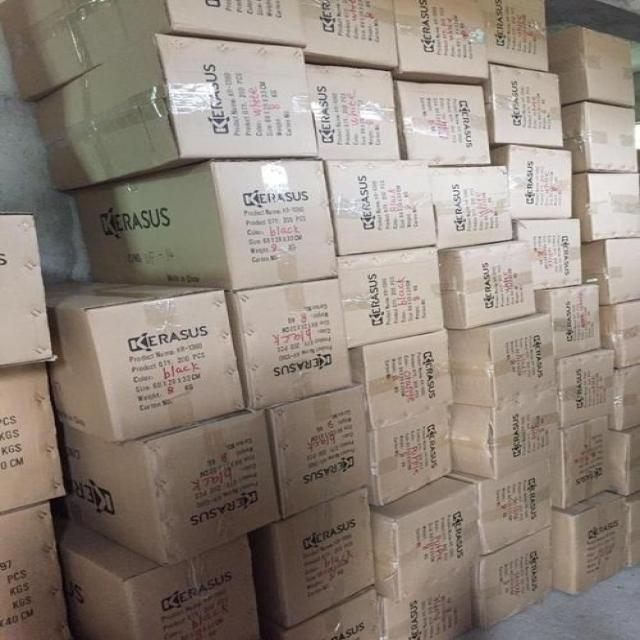box: (33, 34, 321, 189), (51, 405, 280, 565), (73, 157, 335, 290), (44, 280, 244, 442), (54, 516, 260, 640), (247, 486, 375, 627), (223, 277, 349, 409), (264, 384, 372, 518), (369, 476, 480, 603), (449, 448, 563, 554), (347, 328, 454, 435), (335, 246, 445, 350), (324, 158, 434, 256), (448, 312, 557, 410), (454, 389, 562, 480), (0, 362, 65, 513), (0, 500, 70, 640), (305, 60, 406, 157), (434, 237, 538, 328), (366, 408, 456, 506), (475, 525, 556, 631), (398, 82, 492, 166), (394, 2, 489, 85), (3, 213, 54, 366), (379, 559, 475, 640), (554, 489, 627, 593), (426, 166, 513, 248), (548, 28, 636, 107), (259, 584, 383, 639), (301, 0, 397, 67), (489, 64, 562, 149), (492, 147, 573, 218), (535, 279, 603, 361), (561, 101, 636, 173), (557, 413, 612, 506), (511, 218, 582, 290), (485, 0, 552, 72), (570, 173, 639, 241), (556, 350, 612, 427), (579, 238, 640, 307), (599, 298, 640, 367), (609, 425, 639, 497), (608, 365, 640, 429)
